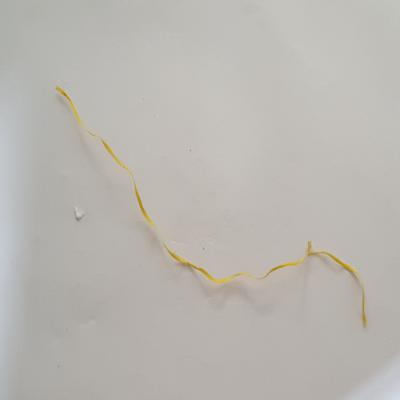thread: (49, 80, 376, 330)
